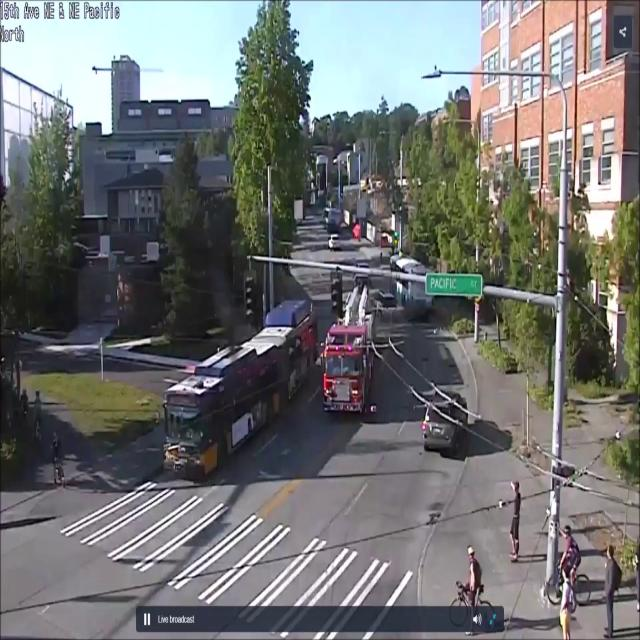traffic-light: (422, 402, 468, 456)
truck: (156, 282, 315, 488), (318, 273, 384, 439)
